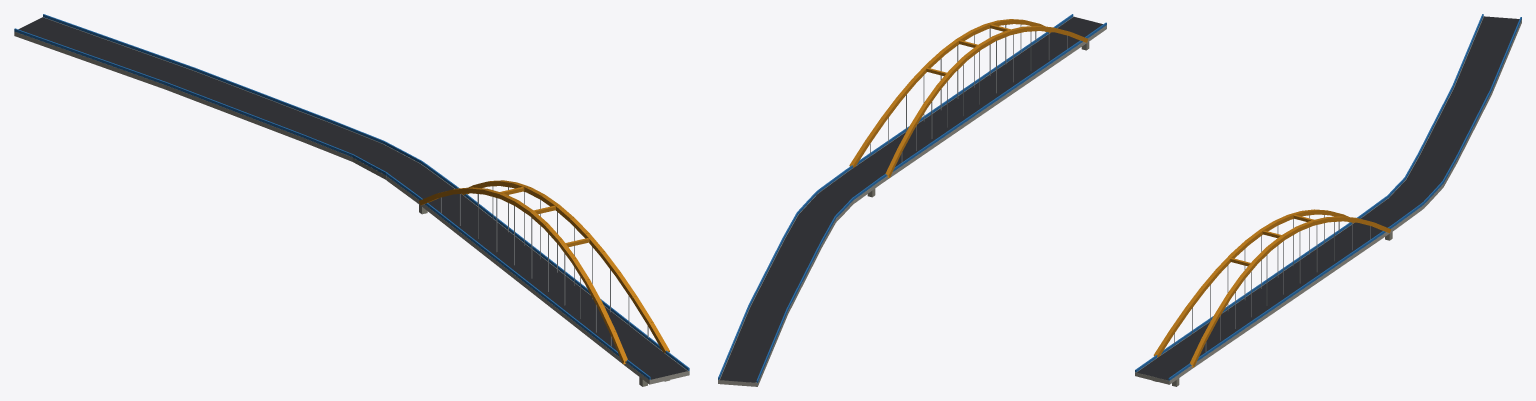
The model's file is jembatan-siak-3-lod0.glb.
The picture shows the model from 3 angles, left to right: view 1: azimuth 30°, elevation 25°; view 2: azimuth 150°, elevation 25°; view 3: azimuth 330°, elevation 25°; orthographic projection. The views are drawn at different scales.
Visible parts, largest first — view 1: jembatan-siak-3_LOD0; view 2: jembatan-siak-3_LOD0; view 3: jembatan-siak-3_LOD0.
Boxes of the visible parts, left/top/right/bottom form: jembatan-siak-3_LOD0: left=14, top=14, right=689, bottom=386; jembatan-siak-3_LOD0: left=718, top=14, right=1106, bottom=386; jembatan-siak-3_LOD0: left=1135, top=14, right=1521, bottom=386.
Bounding box in the file's own units: 69.88 × 33.91 × 366.
